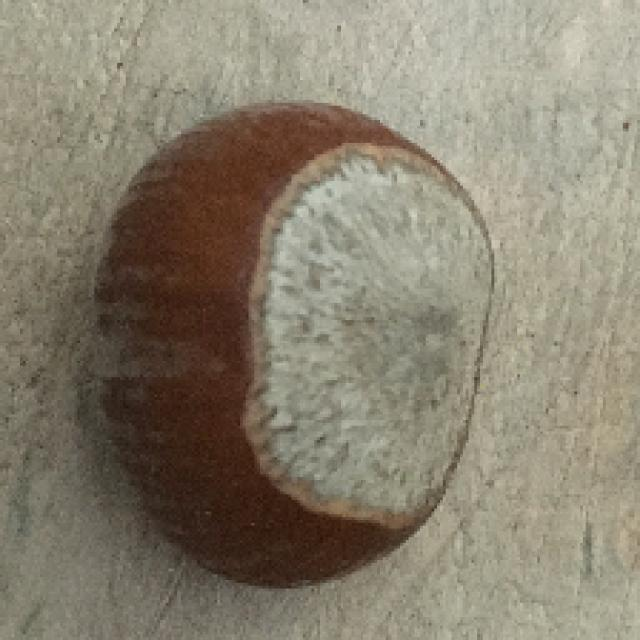qualityHazelnut: (93, 96, 500, 597)
